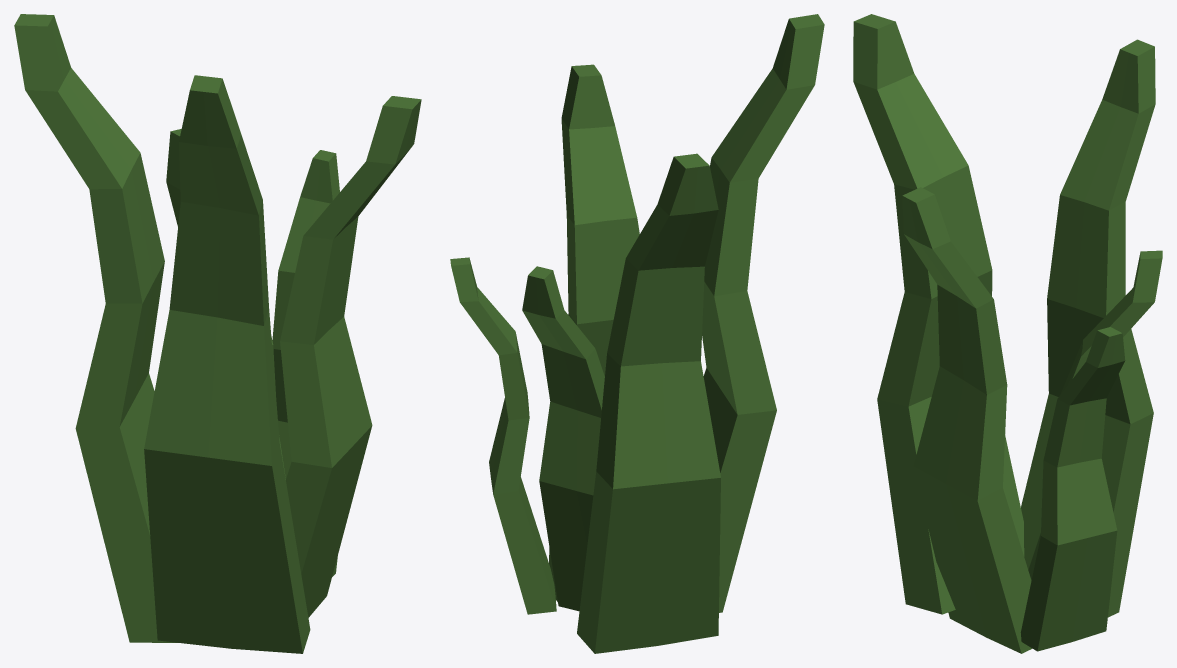
Rendered from grass_04.fbx.
The picture shows the model from 3 angles, left to right: view 1: azimuth 30°, elevation 25°; view 2: azimuth 150°, elevation 25°; view 3: azimuth 270°, elevation 25°; orthographic projection. The views are drawn at different scales.
Parts seen in each view (by area): view 1: Plane.008, Plane.015, Plane.014, Plane.013, Plane.016; view 2: Plane.015, Plane.008, Plane.016, Plane.014, Plane.013; view 3: Plane.014, Plane.008, Plane.015, Plane.013, Plane.016.
Part boxes in pixels (x1,y1,x2,y2): Plane.008: [144, 75, 310, 653]; Plane.015: [14, 14, 177, 642]; Plane.014: [280, 96, 421, 617]; Plane.013: [272, 150, 339, 576]; Plane.016: [166, 129, 285, 479]; Plane.015: [577, 153, 720, 653]; Plane.008: [702, 14, 824, 612]; Plane.016: [522, 266, 604, 611]; Plane.014: [549, 64, 639, 601]; Plane.013: [450, 257, 556, 614]; Plane.014: [902, 187, 1032, 653]; Plane.008: [853, 14, 1024, 614]; Plane.015: [1021, 39, 1155, 617]; Plane.013: [1020, 327, 1125, 651]; Plane.016: [1028, 250, 1162, 580].
Size of the model in its own units: 356 by 699 by 356.
